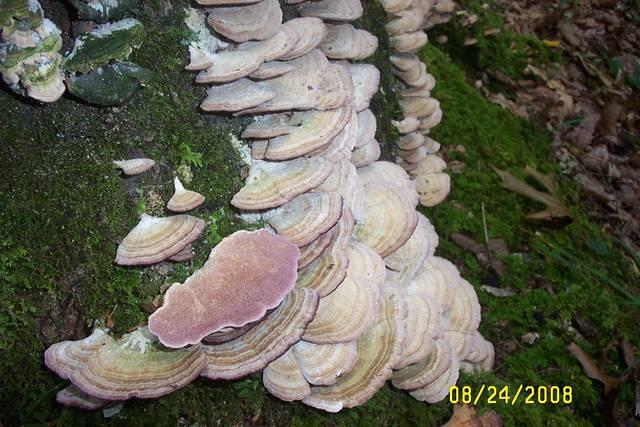Non-edible Mushroom: (43, 0, 497, 414), (146, 226, 301, 349)
